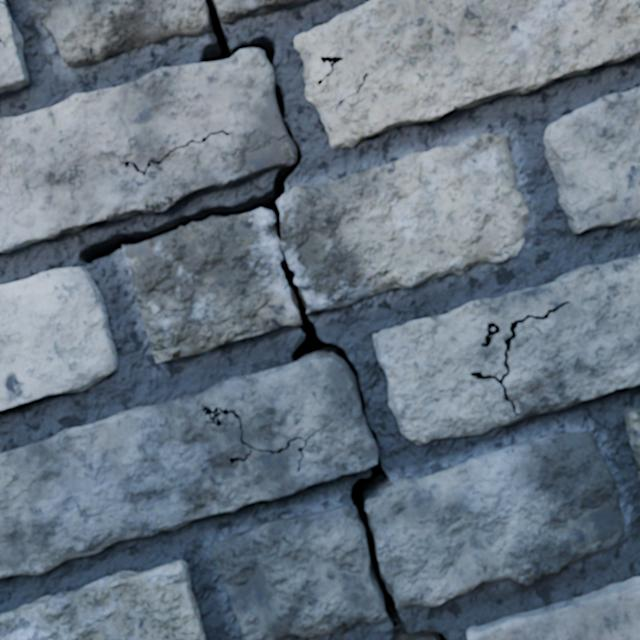broken_brick: (123, 133, 528, 362), (366, 431, 624, 609), (211, 504, 386, 639), (31, 0, 210, 68), (215, 0, 311, 23)
crack: (0, 246, 446, 639), (0, 0, 301, 264), (294, 0, 639, 147), (373, 255, 639, 444), (0, 267, 117, 410), (0, 560, 206, 639), (543, 87, 639, 234), (466, 577, 639, 639), (0, 0, 29, 93), (623, 408, 639, 477), (201, 342, 225, 350), (426, 479, 448, 486)
